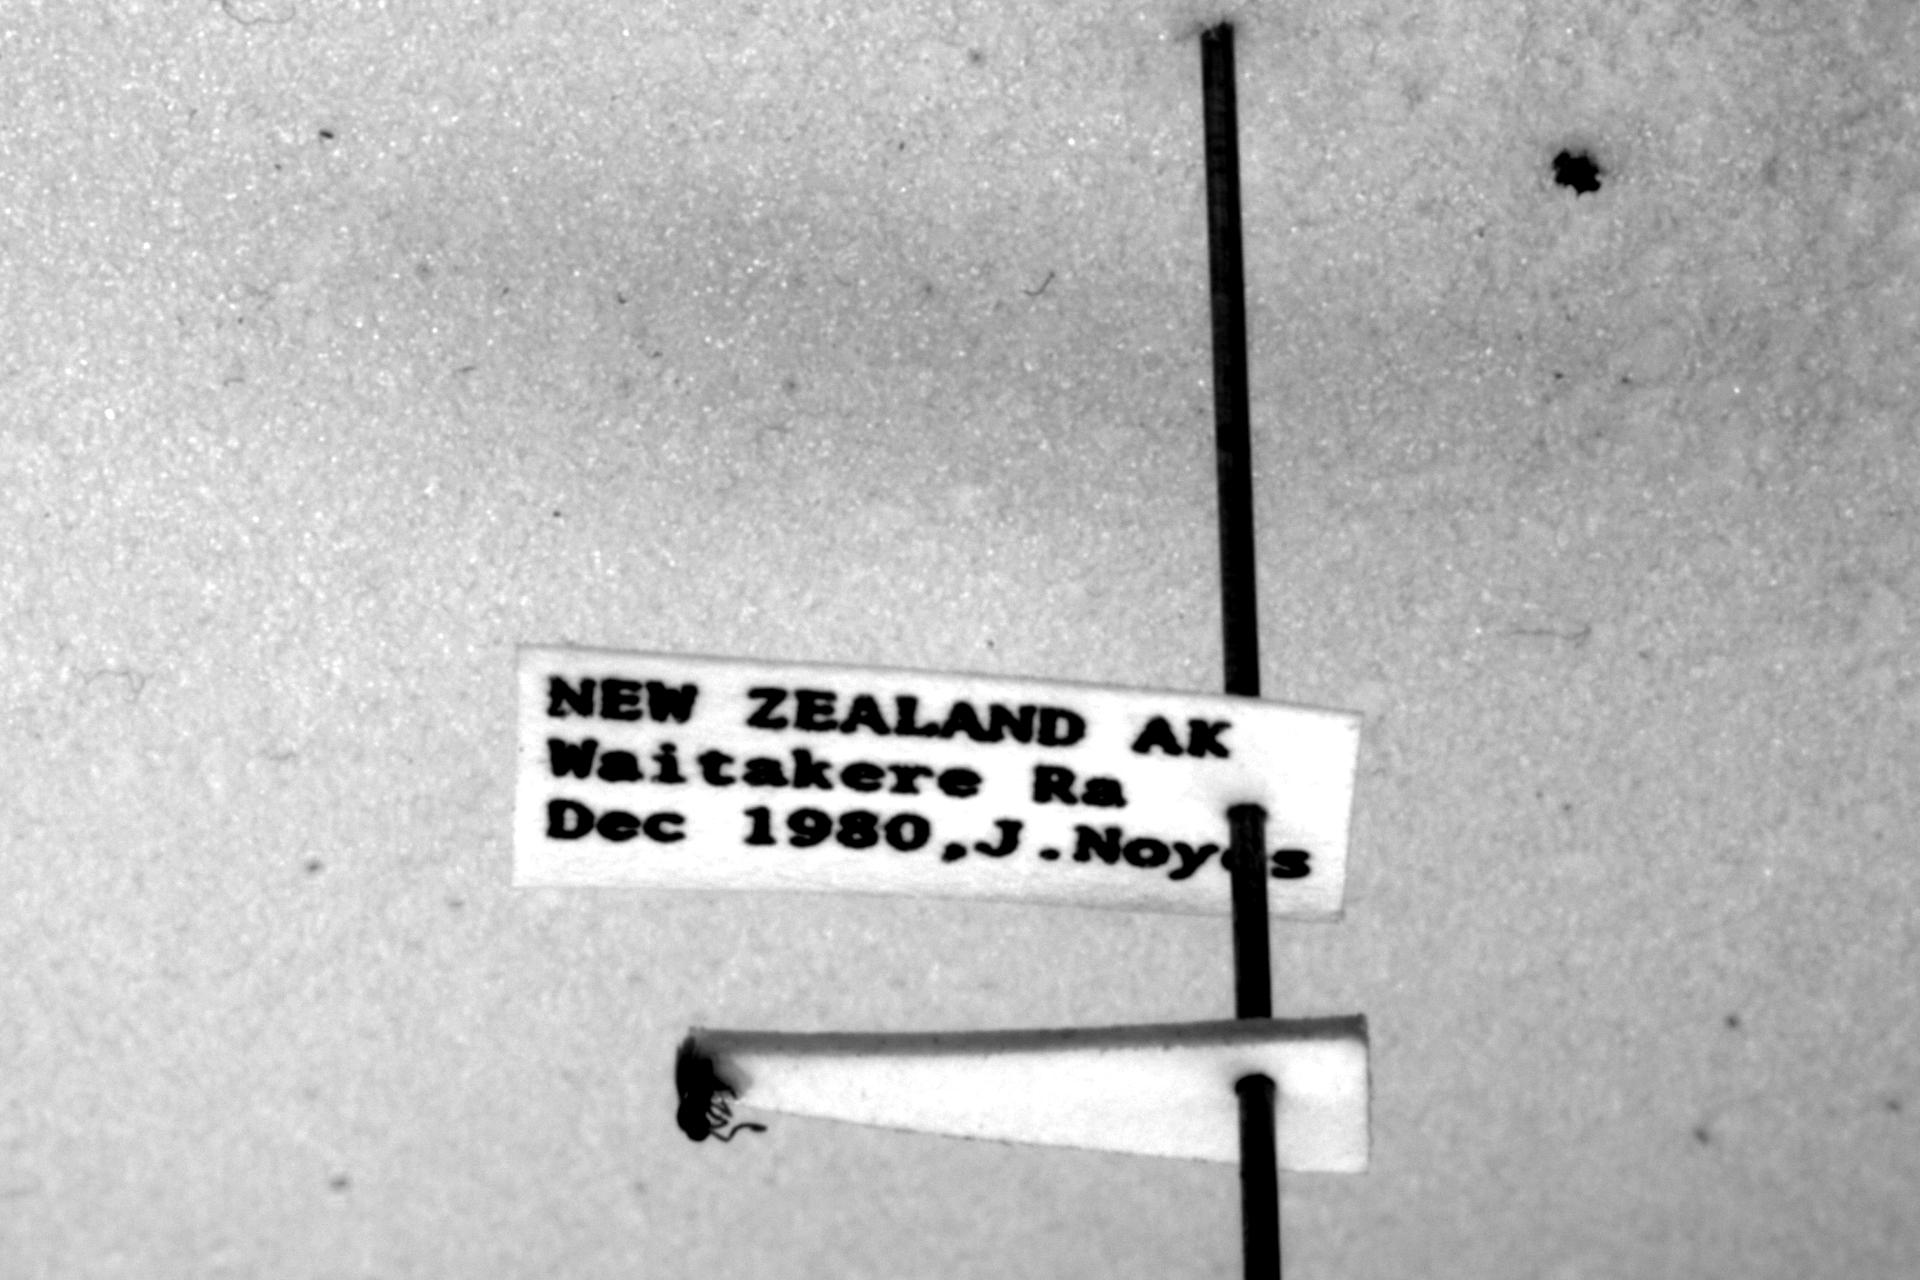typed_label: (514, 646, 1361, 919)
